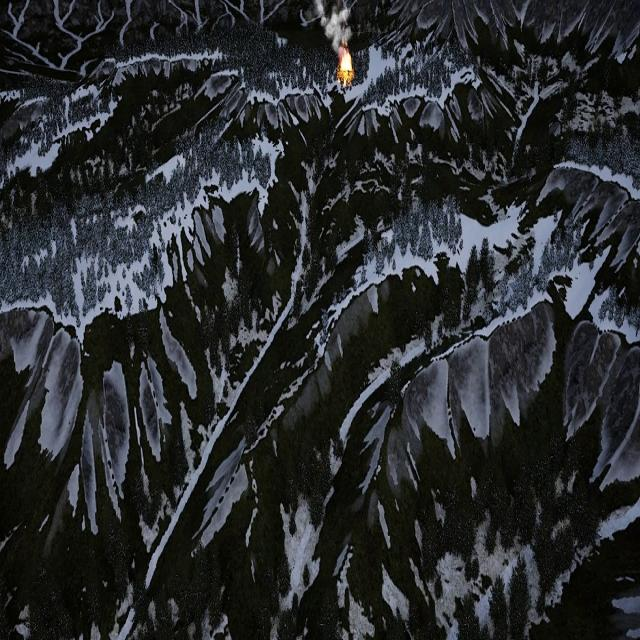fire: (339, 52, 354, 83)
smoke: (310, 0, 352, 49)
